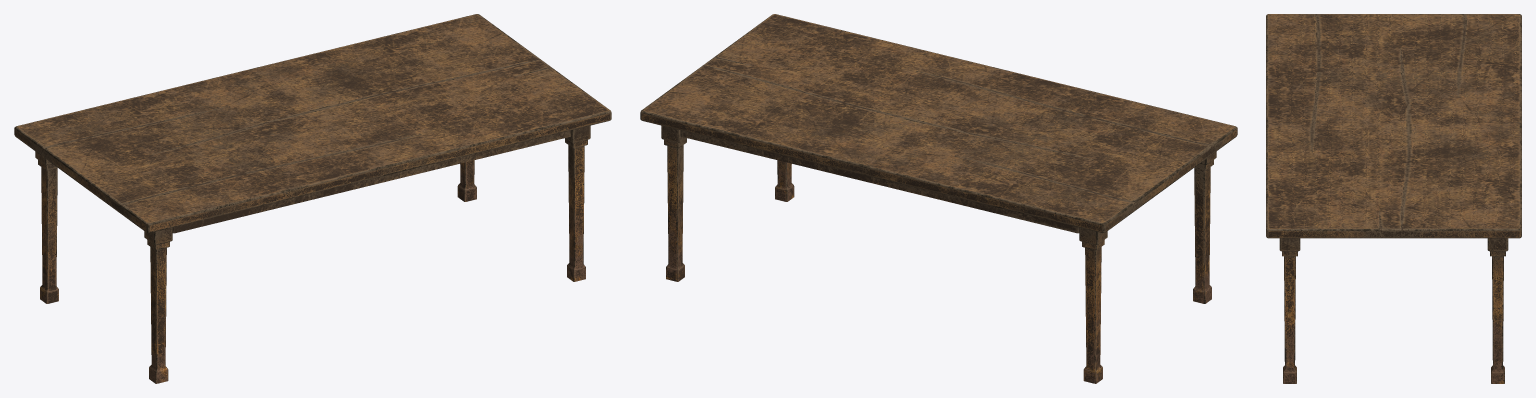
The model's file is object_table.fbx.
The picture shows the model from 3 angles, left to right: view 1: azimuth 30°, elevation 25°; view 2: azimuth 150°, elevation 25°; view 3: azimuth 270°, elevation 25°; orthographic projection. The views are drawn at different scales.
Visible parts, largest first — view 1: table, leg_03, leg_01, leg_04, leg_02; view 2: table, leg_04, leg_02, leg_03, leg_01; view 3: table, leg_01, leg_02.
Part boxes in pixels (x1=…): table: x1=14, y1=14, x2=611, y2=233; leg_03: x1=144, y1=227, x2=172, y2=383; leg_01: x1=565, y1=125, x2=590, y2=281; leg_04: x1=35, y1=151, x2=58, y2=303; leg_02: x1=457, y1=160, x2=476, y2=201; table: x1=640, y1=14, x2=1237, y2=233; leg_04: x1=1079, y1=227, x2=1107, y2=383; leg_02: x1=661, y1=125, x2=686, y2=281; leg_03: x1=1193, y1=151, x2=1216, y2=303; leg_01: x1=775, y1=160, x2=794, y2=201; table: x1=1266, y1=14, x2=1521, y2=238; leg_01: x1=1279, y1=238, x2=1300, y2=383; leg_02: x1=1487, y1=238, x2=1508, y2=383.
Bounding box in the file's own units: 200 × 70 × 100.
1 material, 1 textured.
